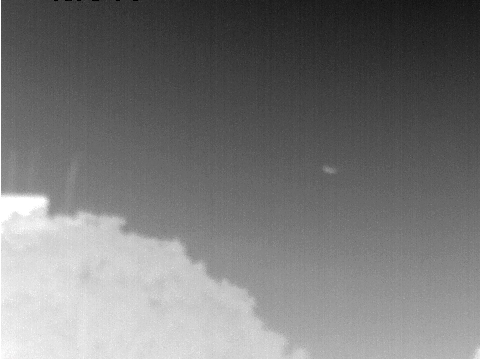dim target: (320, 163, 336, 175)
